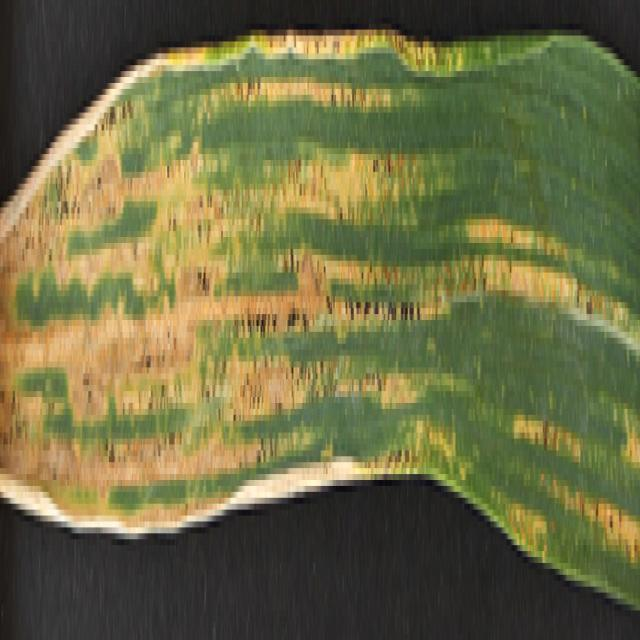leaf rust: (0, 6, 638, 604)
